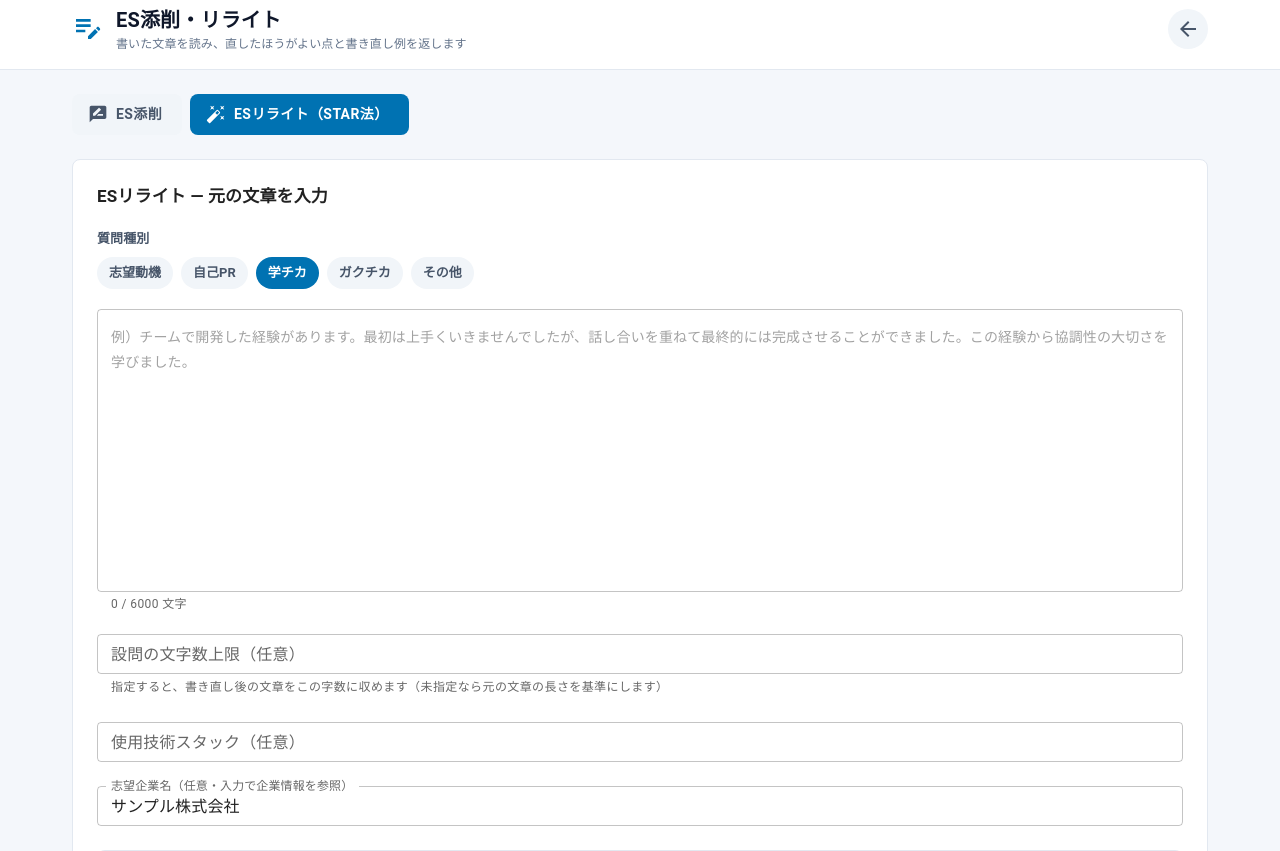
Scenario: ESRewritePage エラー表示 (#1015) › プロキシがJSONエラーを返した場合、日本語の短いメッセージを表示する（生JSONは見せない）
Replace the text in the text box with placeholder "チームで開発した経験があります" with "元の文章です。": {"x": 640, "y": 450} [111,325,1169,575]
(page scrolled)
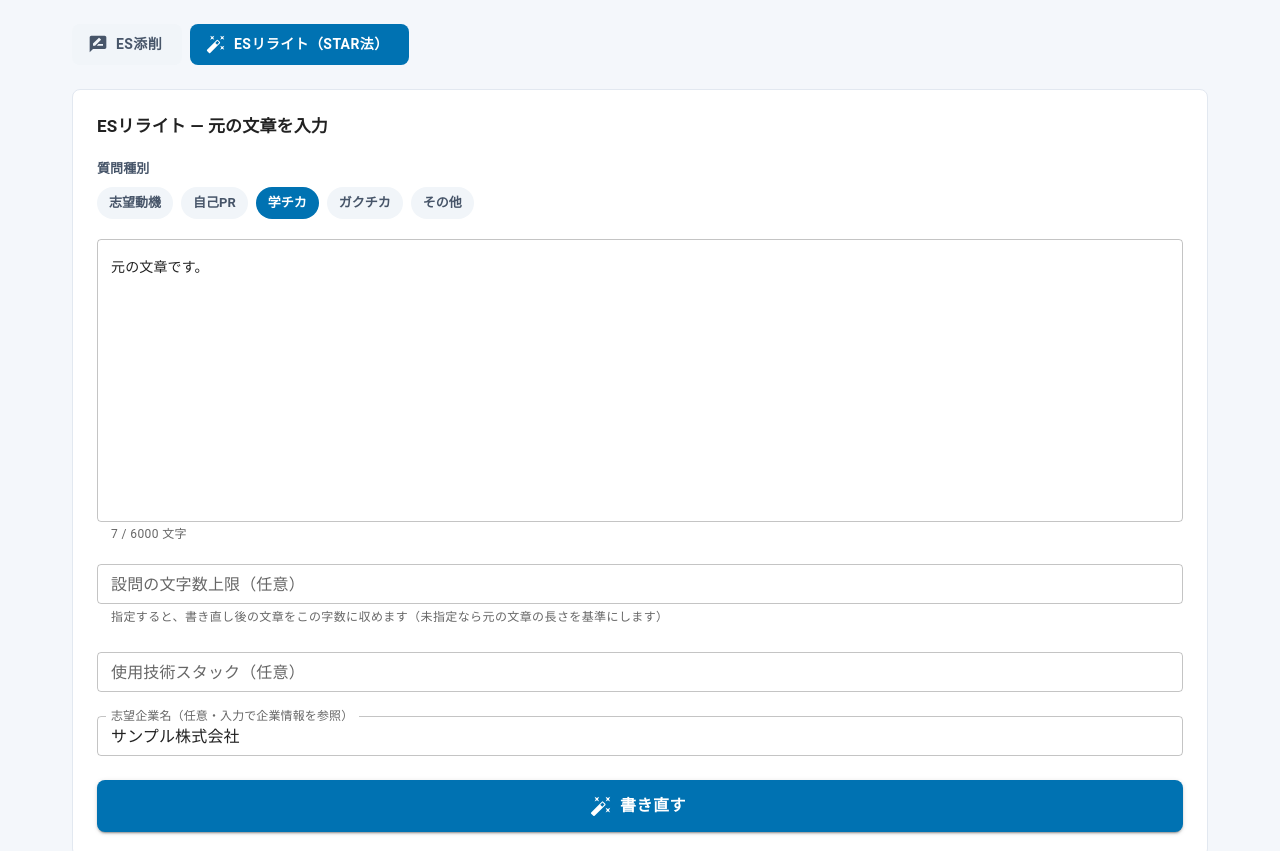
Click the button "書き直す": {"x": 640, "y": 806} [97,780,1183,832]
(page scrolled)
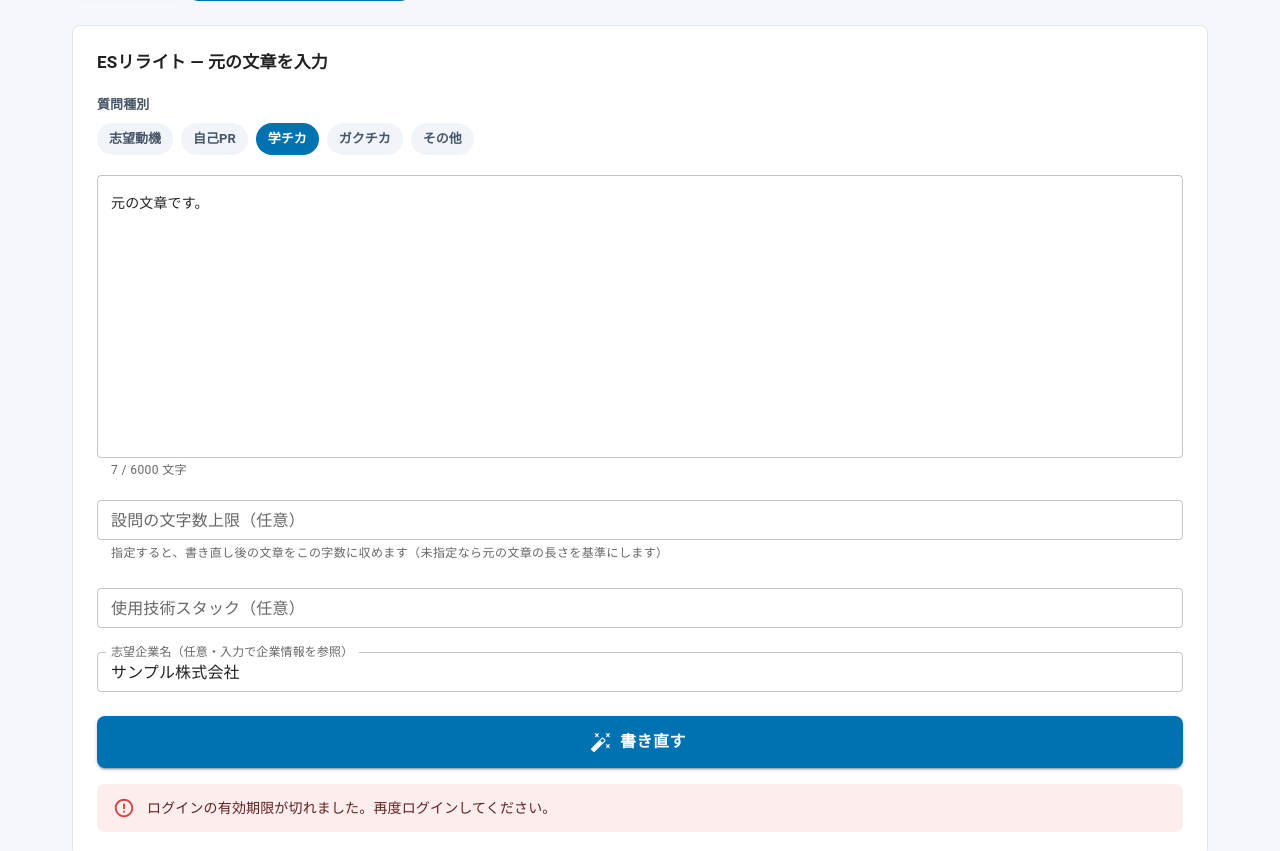
Now the text "ログインの有効期限が切れました。再度ログインしてください。" is shown, box [147,800,556,816]
